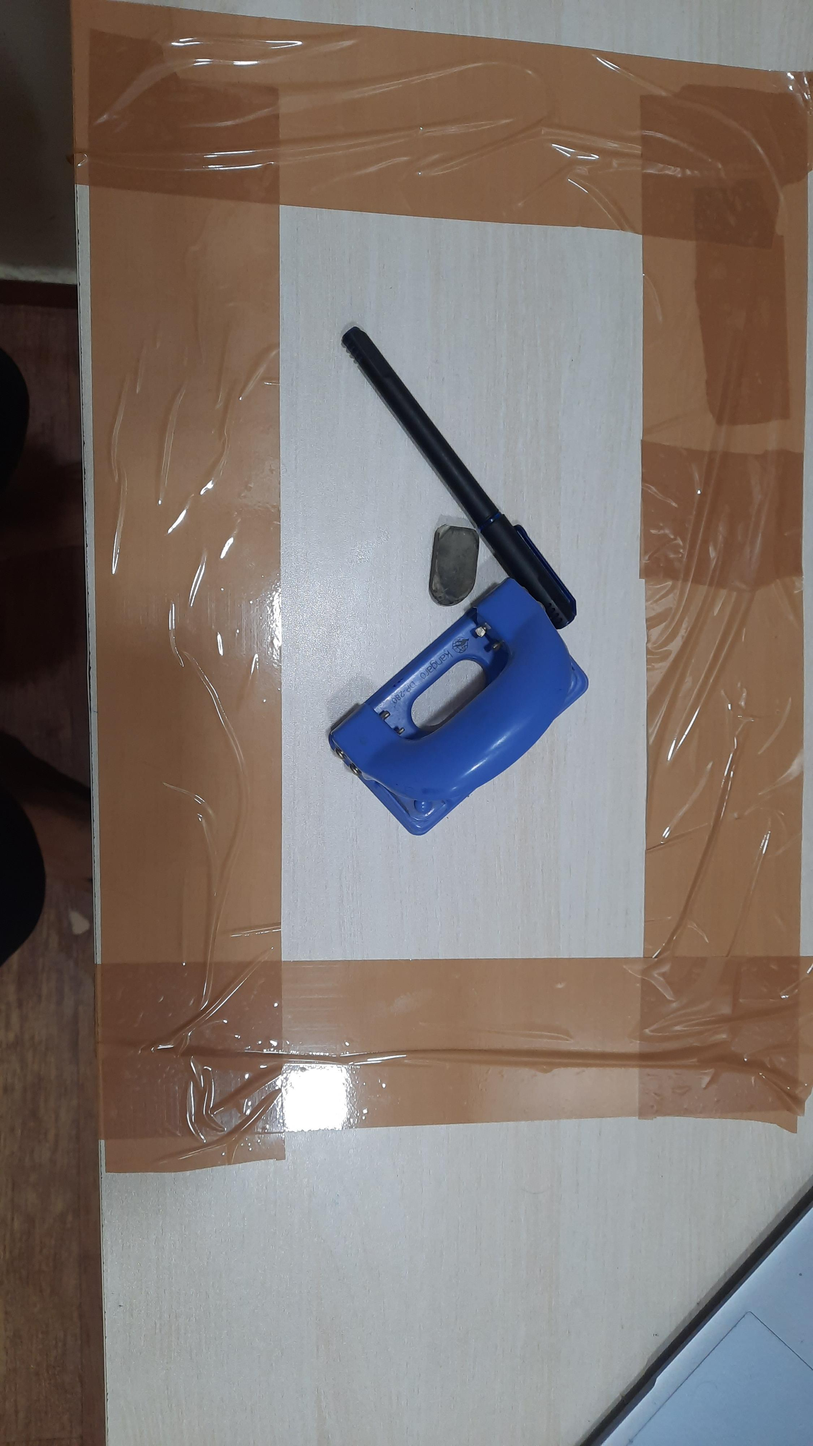Eraser: (429, 523, 479, 606)
Pen: (341, 325, 577, 630)
Punch: (327, 578, 589, 836)
